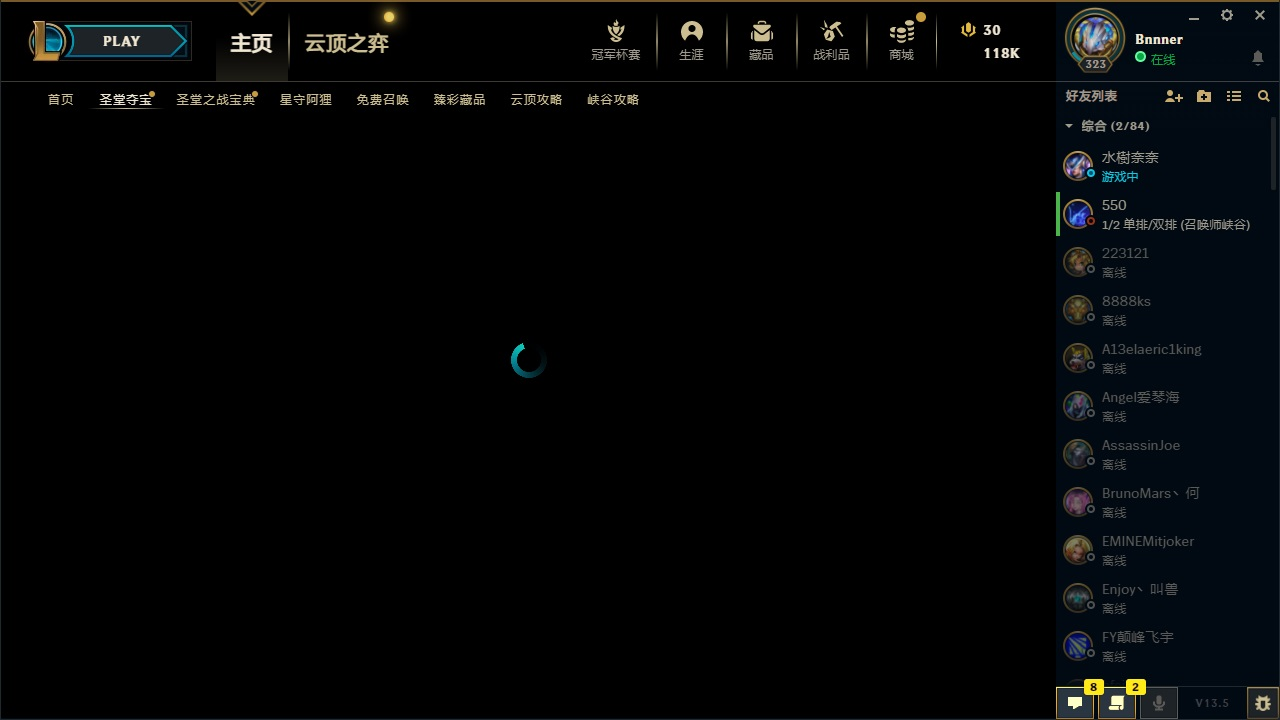PLAY: (73, 20, 187, 59)
